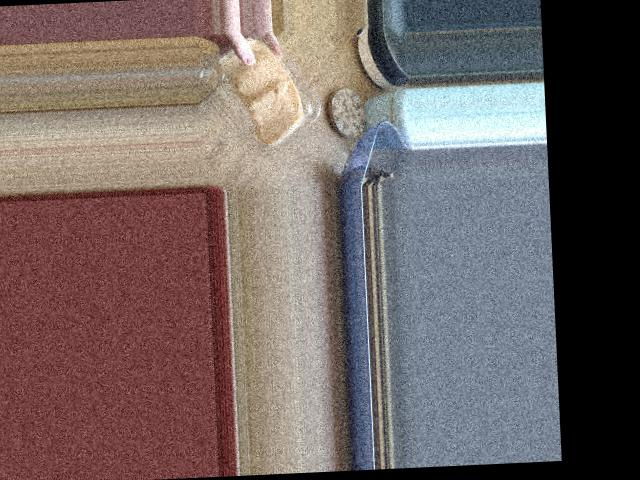cheese: (199, 38, 334, 173)
